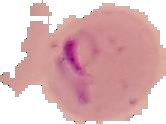parasitized: (58, 26, 121, 100)
